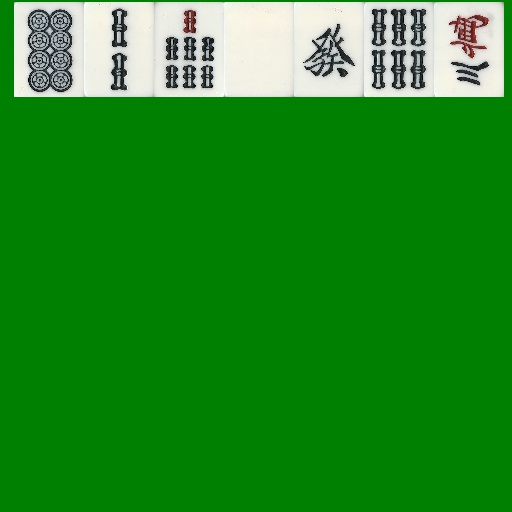2s: (84, 2, 154, 97)
3m: (434, 2, 504, 97)
6s: (364, 2, 434, 97)
7s: (154, 2, 224, 97)
8p: (14, 2, 84, 97)
hatsu: (294, 2, 364, 97)
white: (224, 2, 294, 97)
